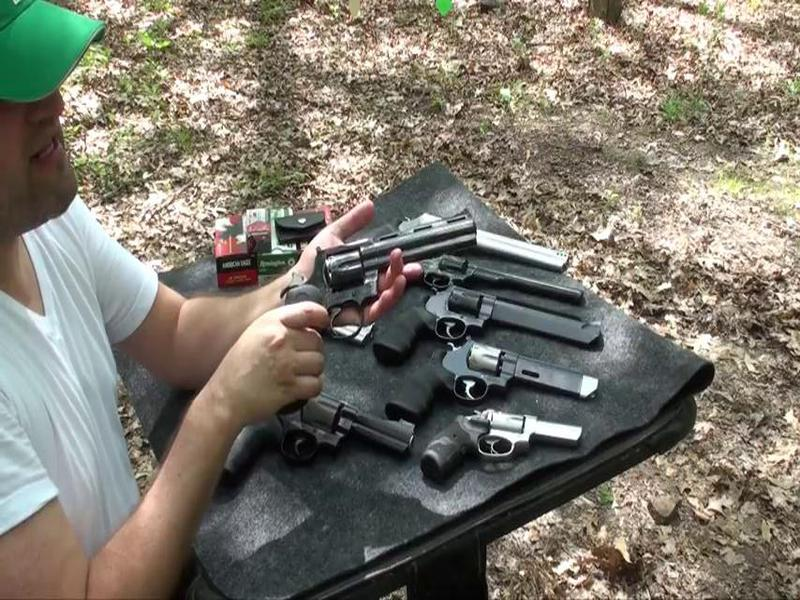Revolver: (280, 190, 488, 348)
